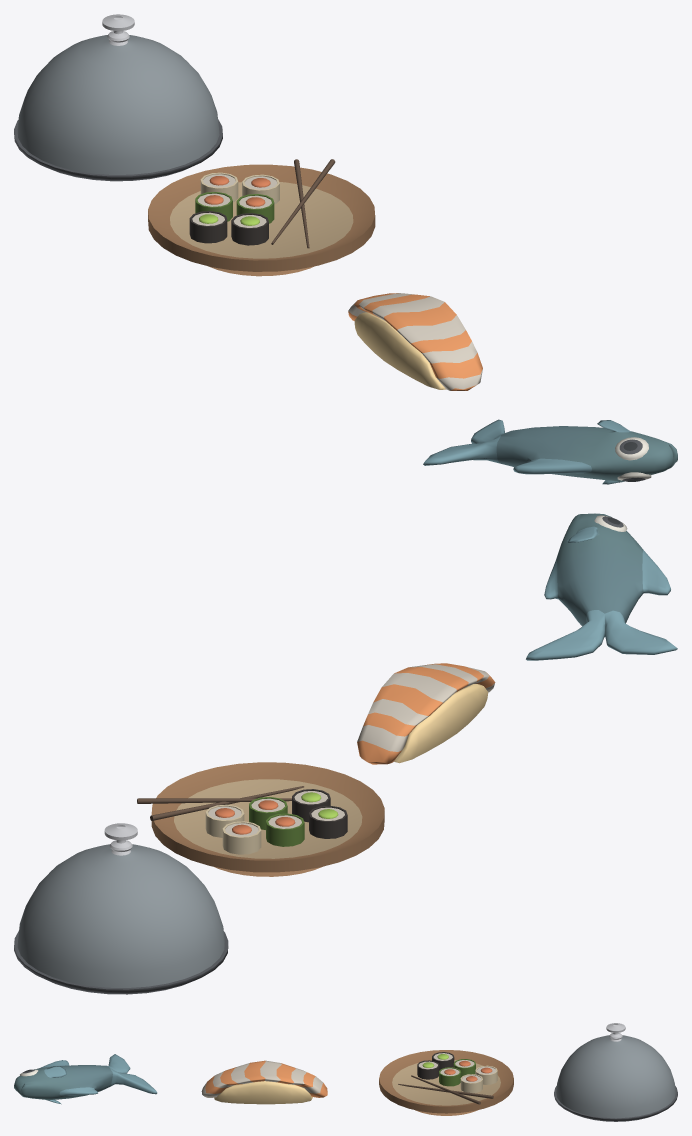
The model's file is SefOyunModeller.fbx.
3 renders of one model, top to bottom at view 1: azimuth 30°, elevation 25°; view 2: azimuth 150°, elevation 25°; view 3: azimuth 270°, elevation 25°, orthographic. The views are drawn at different scales.
Parts seen in each view (by area): view 1: Servis, Sushi, Balik, Zikkim; view 2: Servis, Sushi, Balik, Zikkim; view 3: Servis, Sushi, Zikkim, Balik.
Part boxes in pixels (x1,y1,x2,y2): Servis: [14, 14, 222, 181]; Sushi: [148, 159, 375, 276]; Balik: [423, 419, 677, 484]; Zikkim: [348, 293, 482, 390]; Servis: [14, 823, 228, 994]; Sushi: [137, 762, 384, 876]; Balik: [526, 513, 677, 660]; Zikkim: [357, 663, 495, 764]; Servis: [554, 1023, 677, 1121]; Sushi: [379, 1050, 513, 1115]; Zikkim: [201, 1060, 327, 1104]; Balik: [14, 1054, 157, 1104].
Size of the model in its own units: 7.02 by 3.76 by 31.04.
